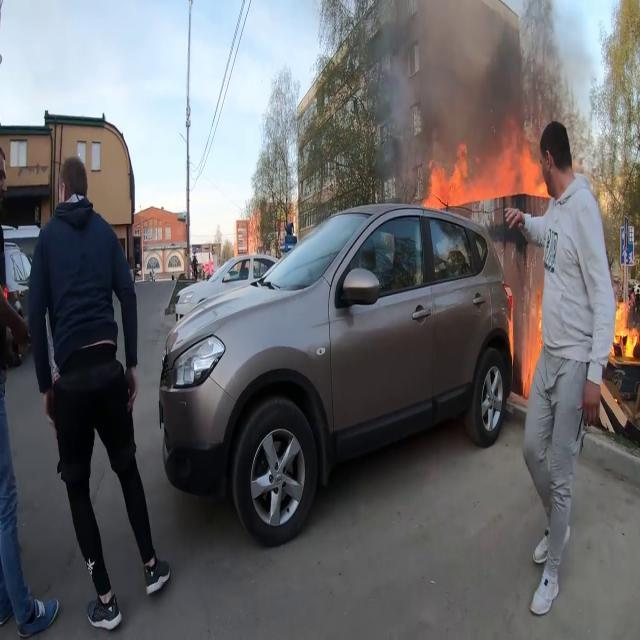Fire: (421, 133, 546, 208), (504, 262, 546, 398), (609, 292, 640, 363)
Smoke: (364, 0, 538, 168)
